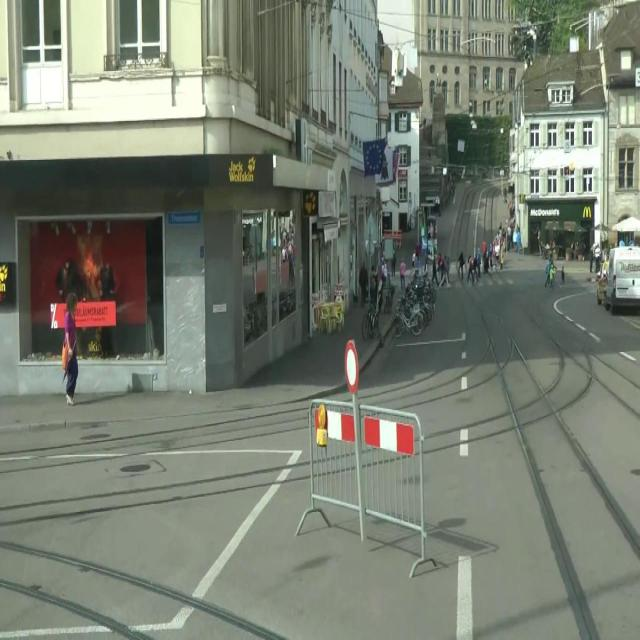bicycle: (394, 300, 424, 341), (364, 302, 381, 340)
car: (604, 248, 640, 316), (598, 263, 609, 308)
person: (63, 293, 83, 406), (371, 266, 381, 319), (360, 262, 370, 308), (546, 252, 558, 289), (441, 257, 451, 289), (432, 258, 441, 289), (400, 259, 408, 293), (458, 252, 467, 282), (596, 243, 603, 278), (469, 254, 477, 283), (392, 250, 399, 280), (484, 248, 491, 275), (496, 242, 502, 272), (550, 266, 557, 290), (507, 227, 513, 253), (413, 249, 419, 274), (478, 248, 483, 277), (517, 231, 523, 255), (591, 247, 596, 274), (547, 262, 552, 288), (502, 241, 506, 271), (562, 267, 567, 288)
